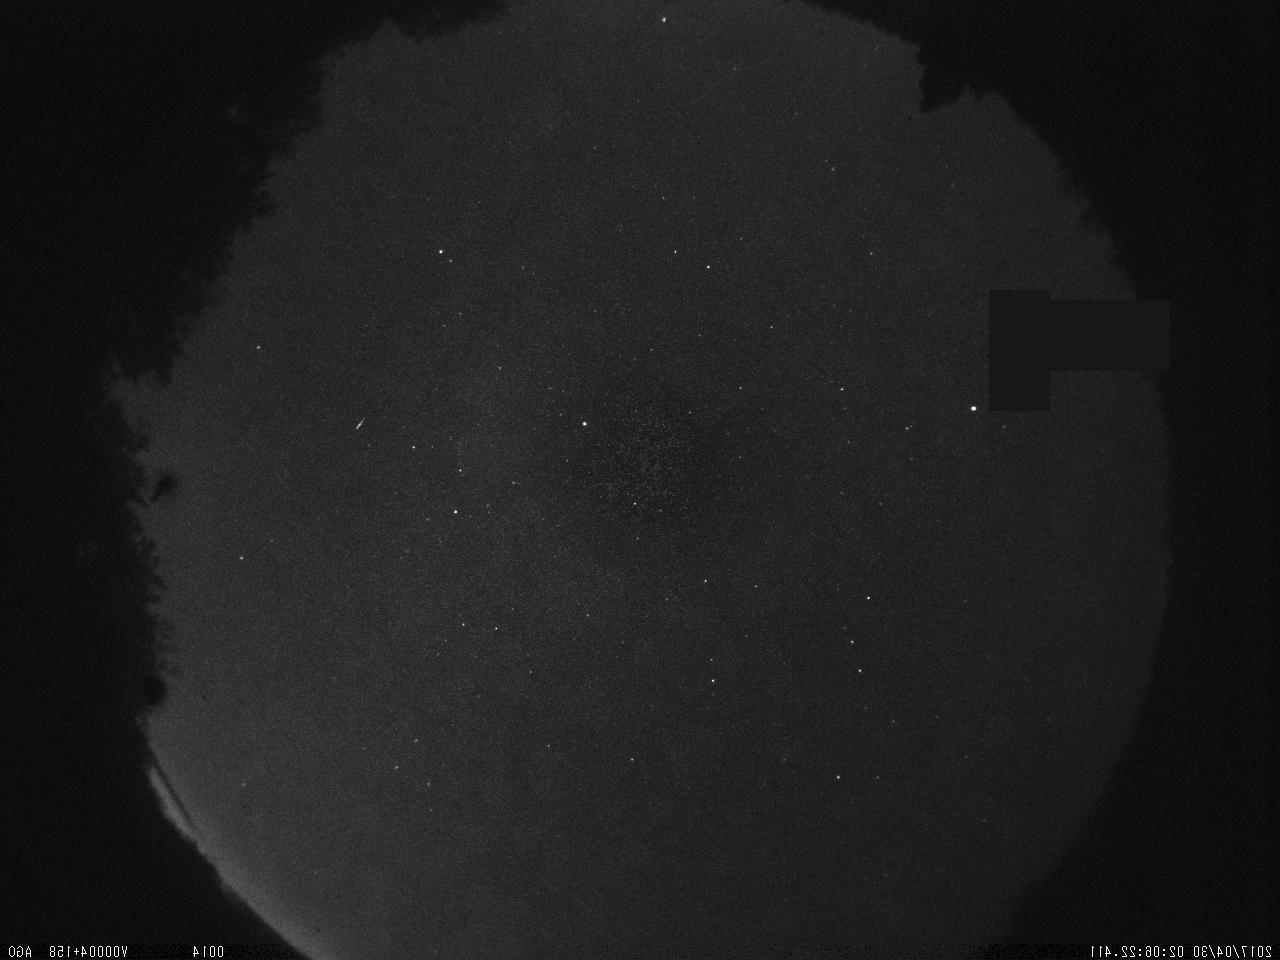meteor: (350, 409, 372, 437)
